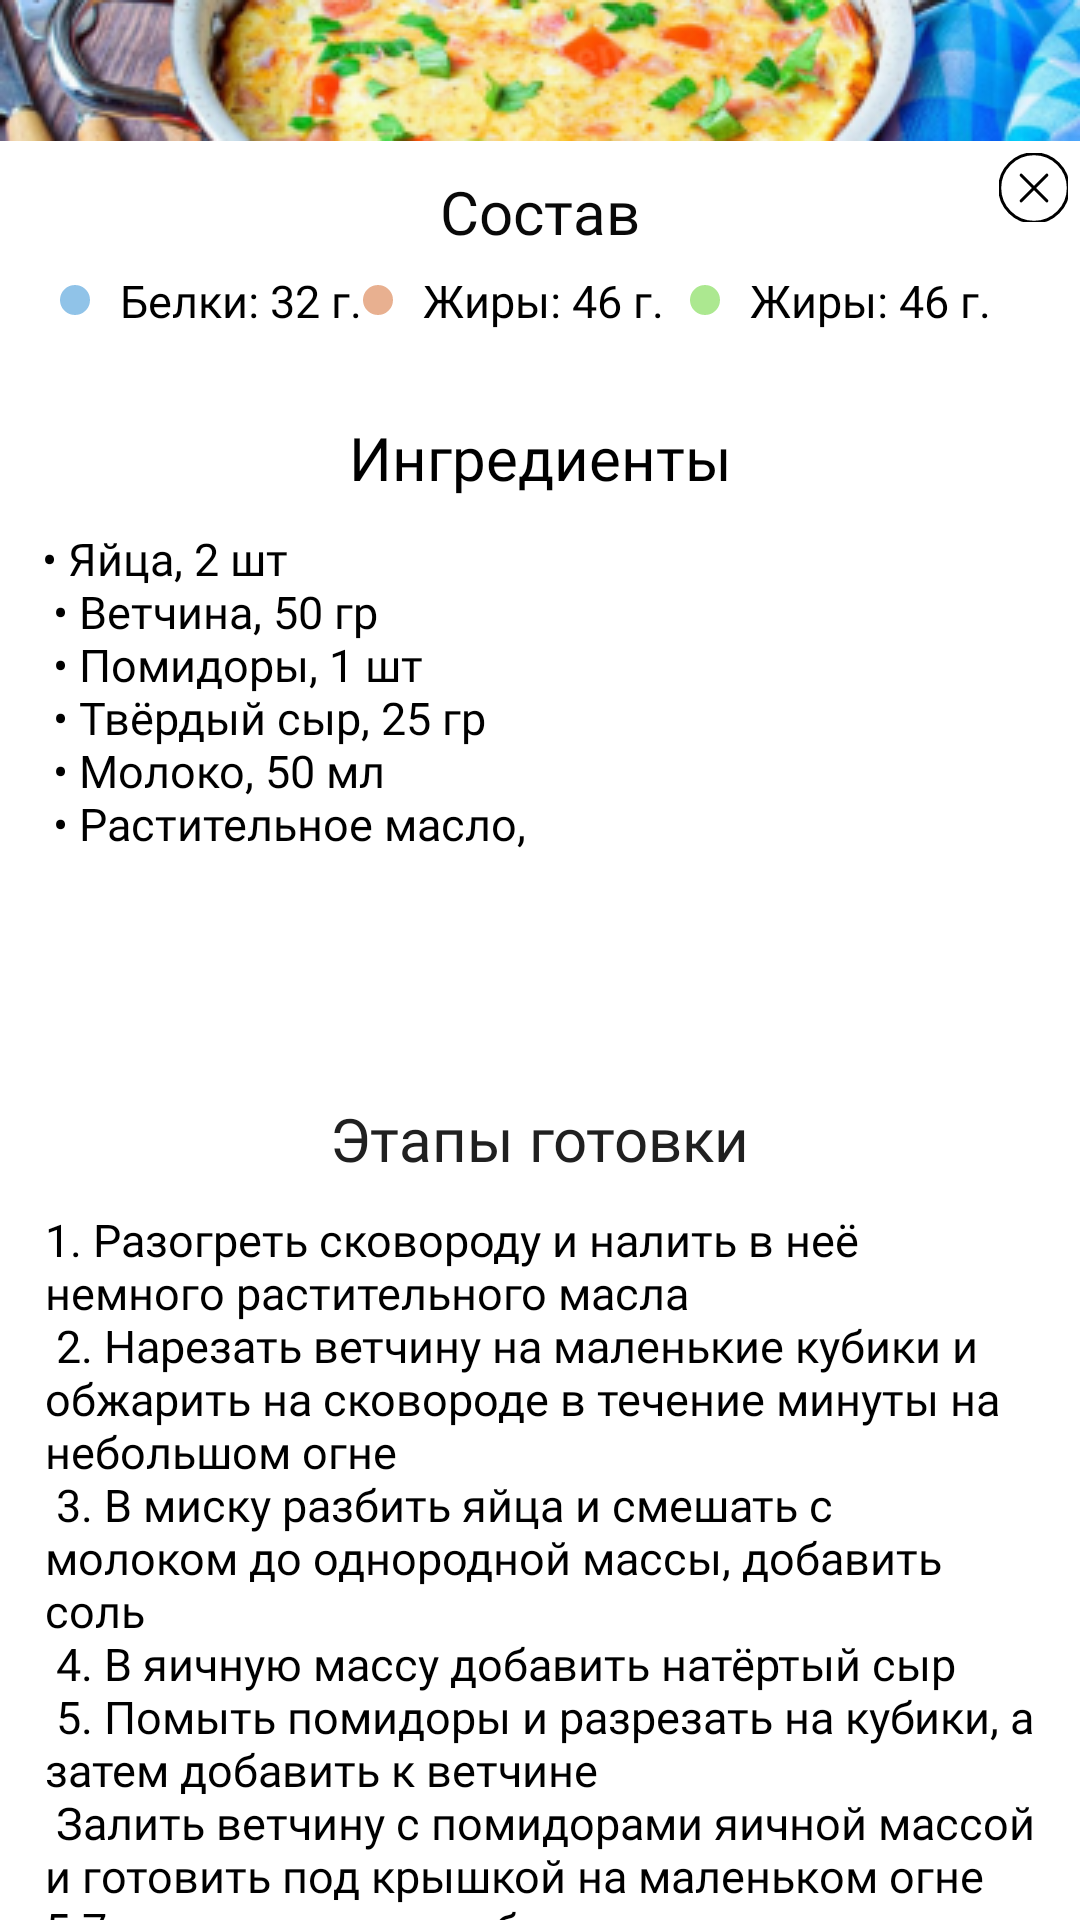

Icons on this 1080px x 1920px Android screen, each with the point to tap as [x,y]:
exit krest: [1033,187]
